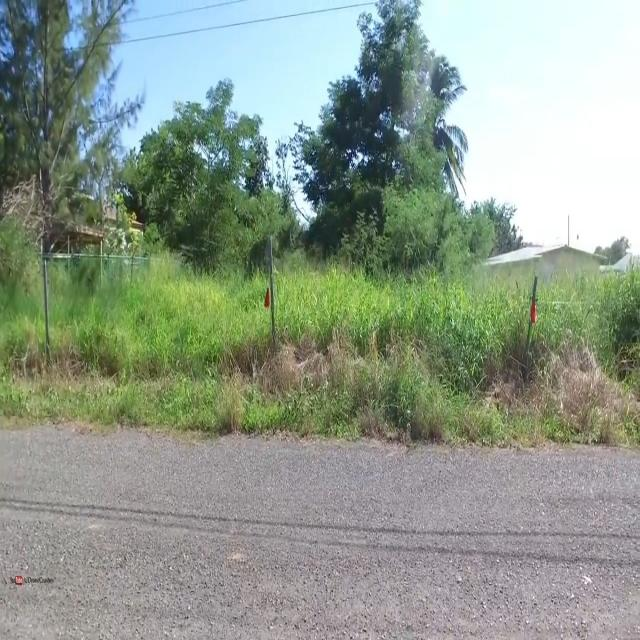Pole: (520, 276, 544, 362), (266, 235, 280, 342), (43, 260, 51, 350)
